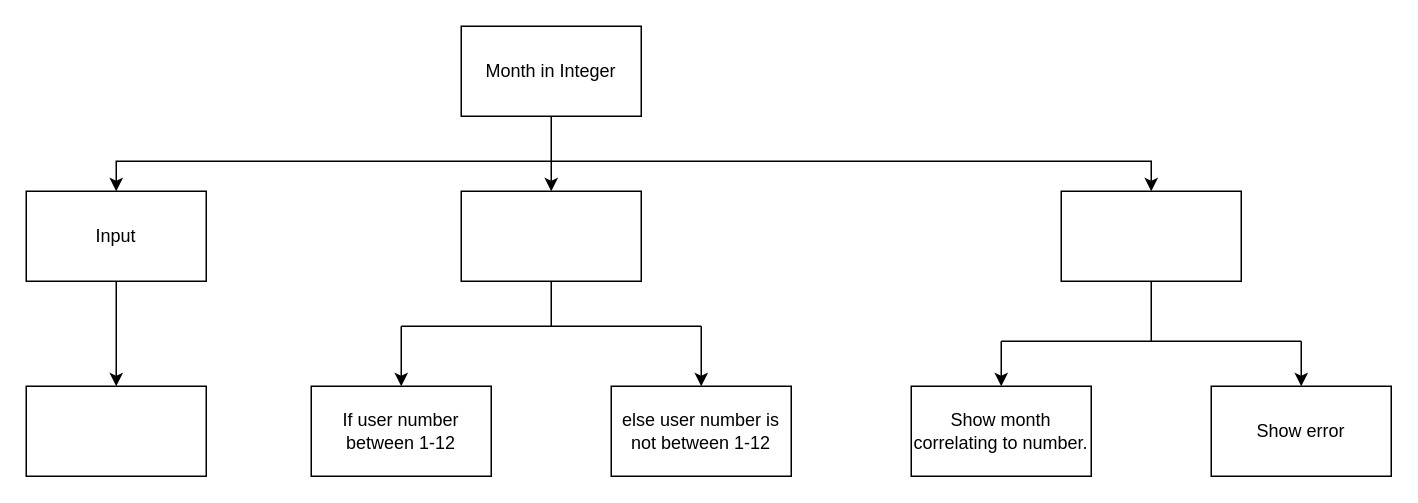
Some shapes in this 1418 by 503 pixel diagram are drawn without their labels. The centre of each missing label's shape, as x and y in pixels:
"Enter your Month in Integer" goes at [115,430].
"Output" goes at [1150,235].
"Process" goes at [550,235].
